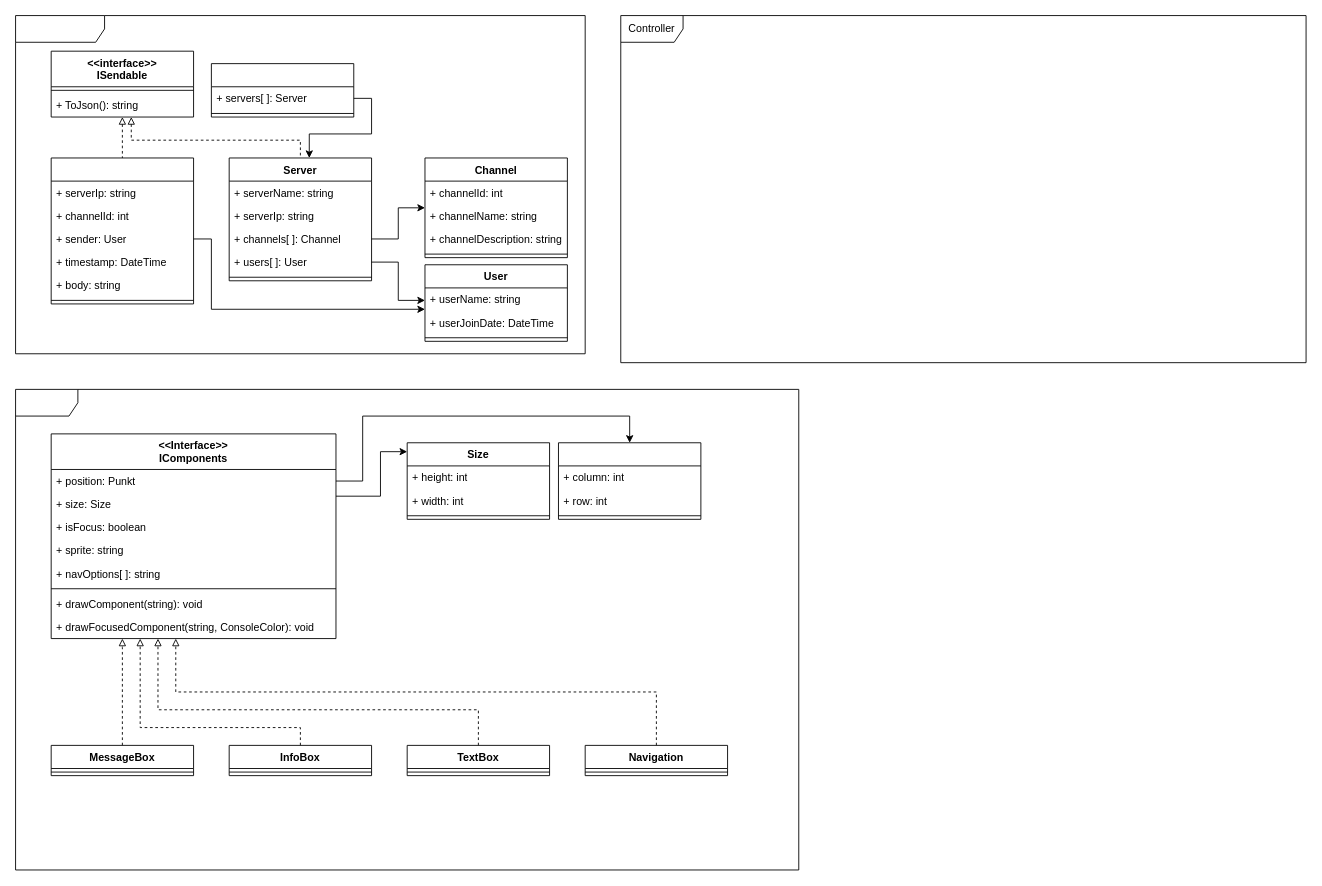
This 1322x886 diagram has some shape labels left out. The shapes that lost their labels are listed below. From the top down, each one's box as (x1, y1, x2, y2) in pixels, then its label:
(210, 63, 354, 117): ServerList
(15, 15, 585, 354): DataClasses
(50, 157, 194, 304): Message
(558, 442, 701, 519): Punkt
(15, 388, 799, 870): Frontend
